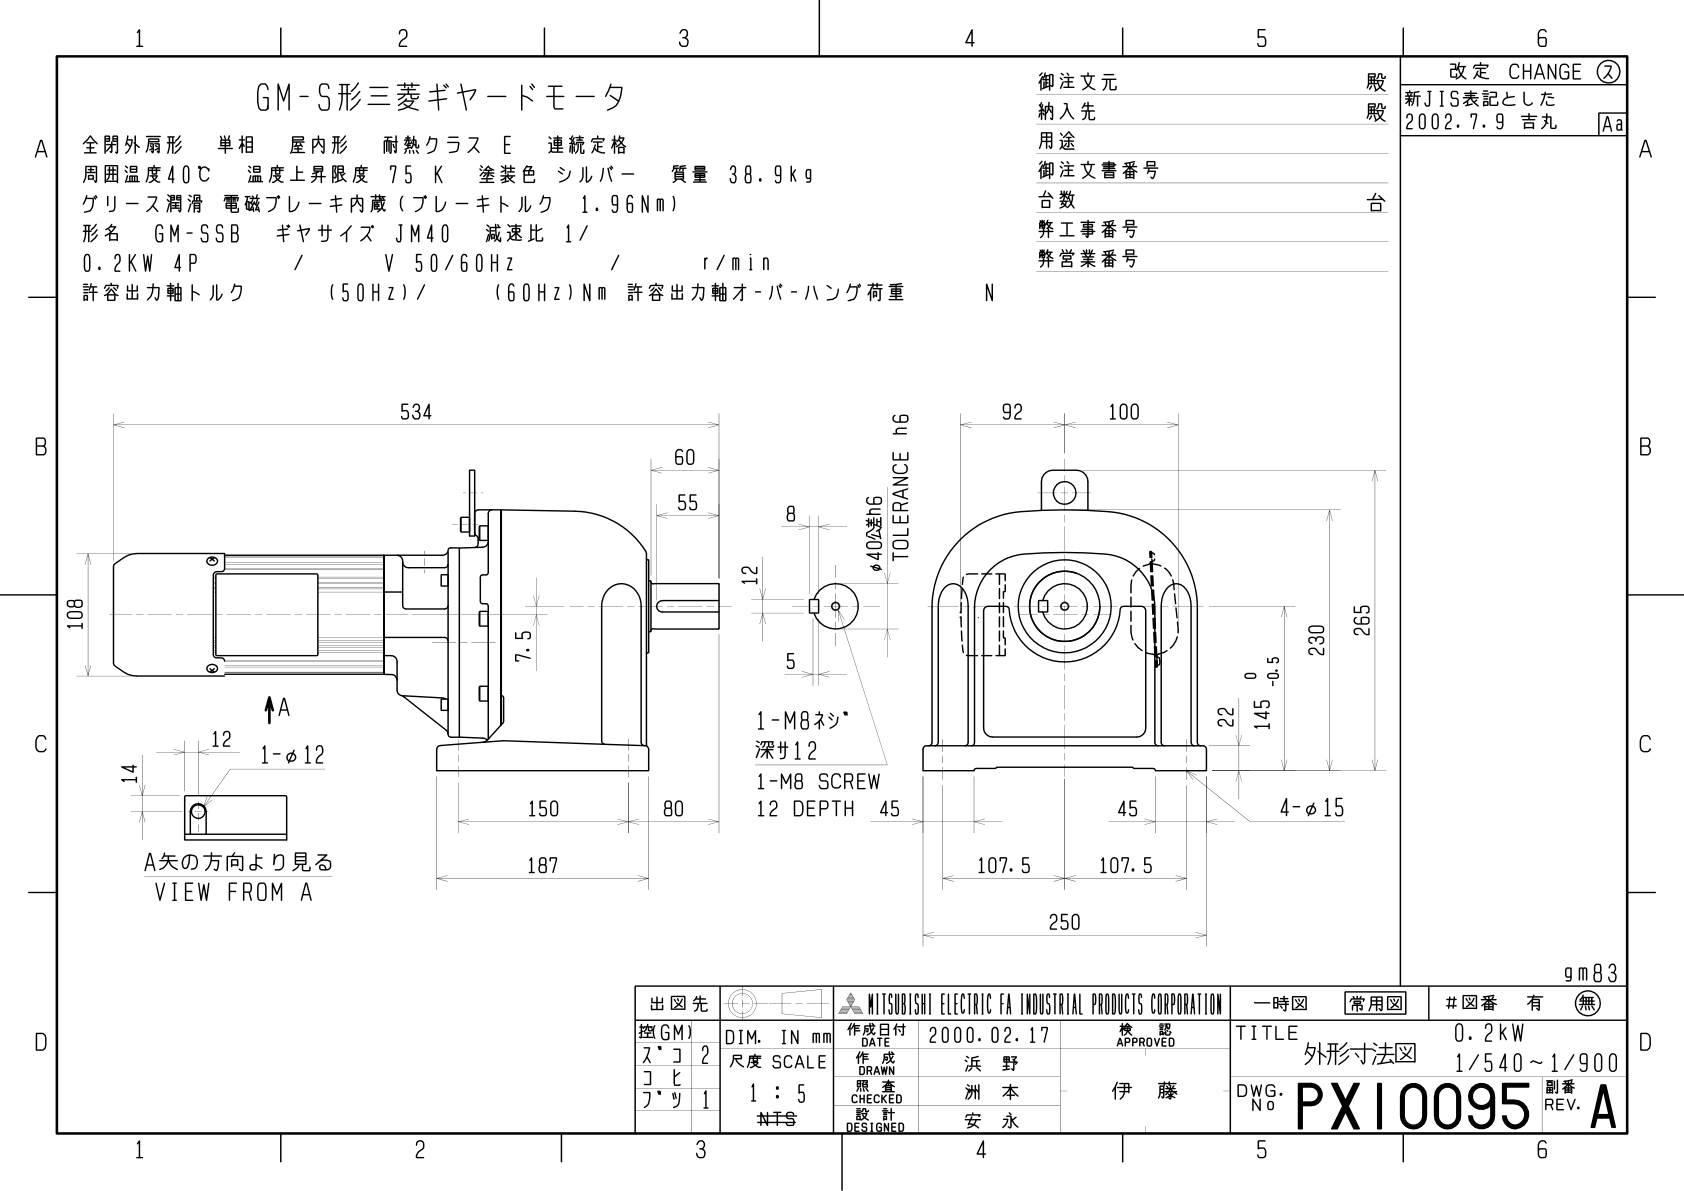GM_S_屋内＿単相_脚: (9, 13, 1684, 1191)
